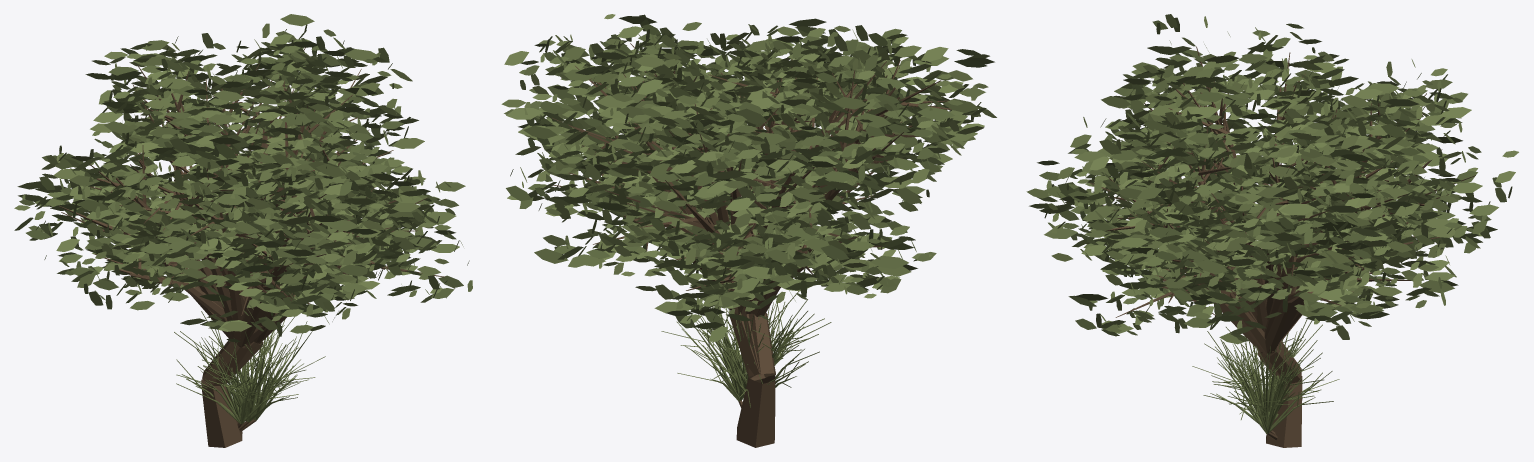
Rendered from kit.glb.
3 views of the same model, side by side, from view 1: azimuth 30°, elevation 25°; view 2: azimuth 150°, elevation 25°; view 3: azimuth 270°, elevation 25° (orthographic). The views are drawn at different scales.
Visible parts, largest first — view 1: Kandi0, Kandi2, Kandi1, Khumbat0, Khumbat1, Khumbat2, Karir0, Karir1, Karir2; view 2: Kandi0, Kandi2, Kandi1, Khumbat0, Khumbat1, Khumbat2, Karir1, Karir0, Karir2; view 3: Kandi2, Kandi1, Kandi0, Khumbat1, Khumbat0, Khumbat2, Karir2, Karir1, Karir0.
Boxes of the visible parts, <box> form: Kandi0: <box>14,43,439,447</box>; Kandi2: <box>44,14,472,386</box>; Kandi1: <box>72,47,463,384</box>; Khumbat0: <box>80,39,455,346</box>; Khumbat1: <box>89,62,465,345</box>; Khumbat2: <box>85,53,428,343</box>; Karir0: <box>176,311,308,428</box>; Karir1: <box>174,325,325,430</box>; Karir2: <box>180,319,312,431</box>; Kandi0: <box>578,14,955,447</box>; Kandi2: <box>501,34,936,380</box>; Kandi1: <box>504,18,952,379</box>; Khumbat0: <box>562,32,994,319</box>; Khumbat1: <box>545,33,941,313</box>; Khumbat2: <box>504,28,996,310</box>; Karir1: <box>678,299,818,397</box>; Karir0: <box>685,279,831,407</box>; Karir2: <box>661,302,824,407</box>; Kandi2: <box>1068,59,1497,385</box>; Kandi1: <box>1044,96,1458,379</box>; Kandi0: <box>1026,23,1447,447</box>; Khumbat1: <box>1101,57,1518,329</box>; Khumbat0: <box>1075,14,1442,344</box>; Khumbat2: <box>1085,51,1467,354</box>; Karir2: <box>1192,324,1333,439</box>; Karir1: <box>1203,338,1322,434</box>; Karir0: <box>1207,319,1339,419</box>.
Size of the model in its own units: 5.36 by 4.74 by 5.72.
